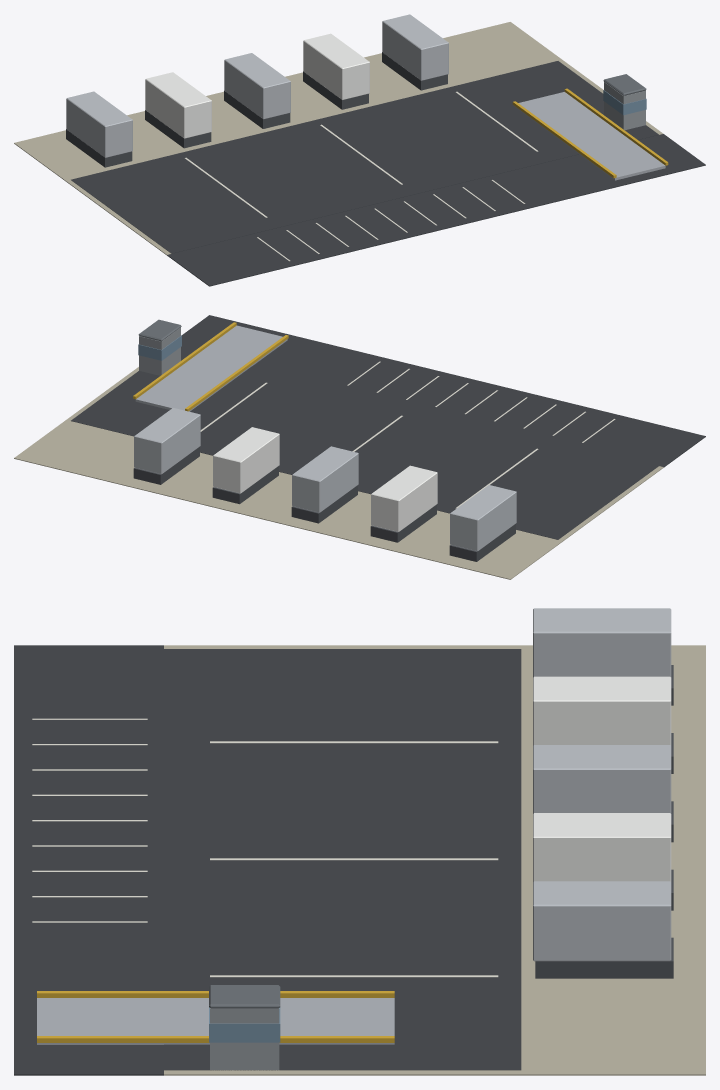
Rendered from site_truckyard.glb.
3 renders of one model, top to bottom at view 1: azimuth 30°, elevation 25°; view 2: azimuth 150°, elevation 25°; view 3: azimuth 270°, elevation 25°, orthographic. The views are drawn at different scales.
Parts seen in each view (by area): view 1: site_truckyard; view 2: site_truckyard; view 3: site_truckyard.
Part boxes in pixels (<box>): site_truckyard: <box>14,14,705,286</box>; site_truckyard: <box>14,315,705,579</box>; site_truckyard: <box>14,608,705,1075</box>.
Bounding box in the file's own units: 44 × 3.6 × 30.
